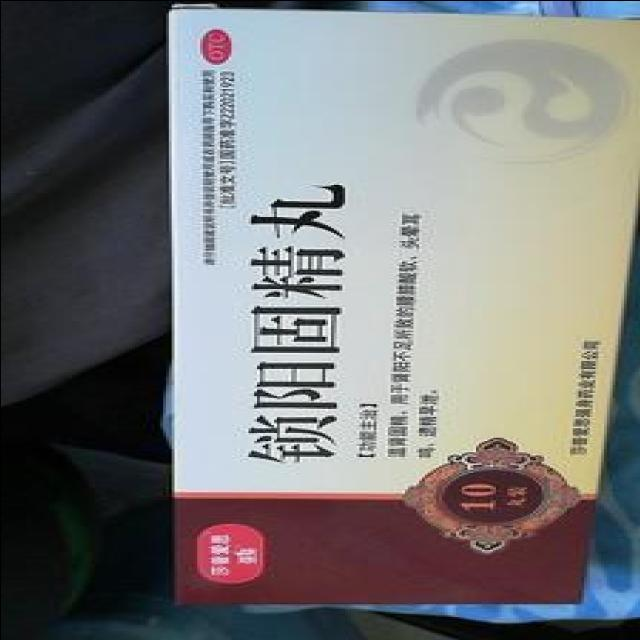-Recyclables - paper box-: (167, 9, 638, 608)
